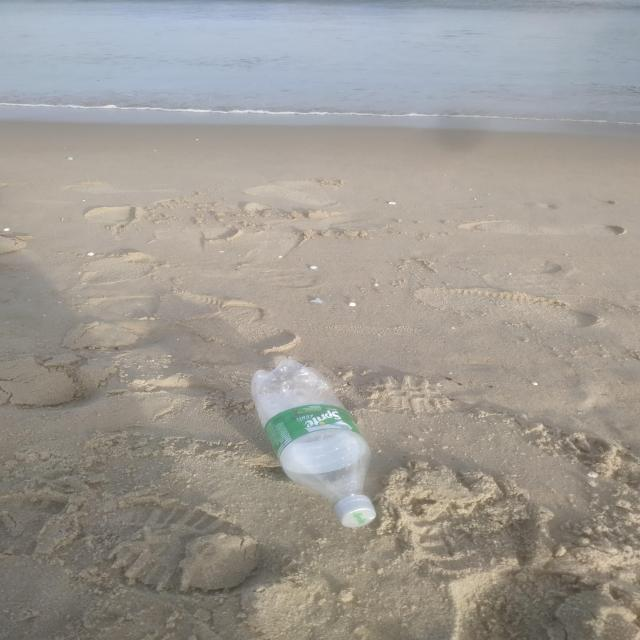litter: (250, 359, 371, 507), (333, 495, 376, 528)
